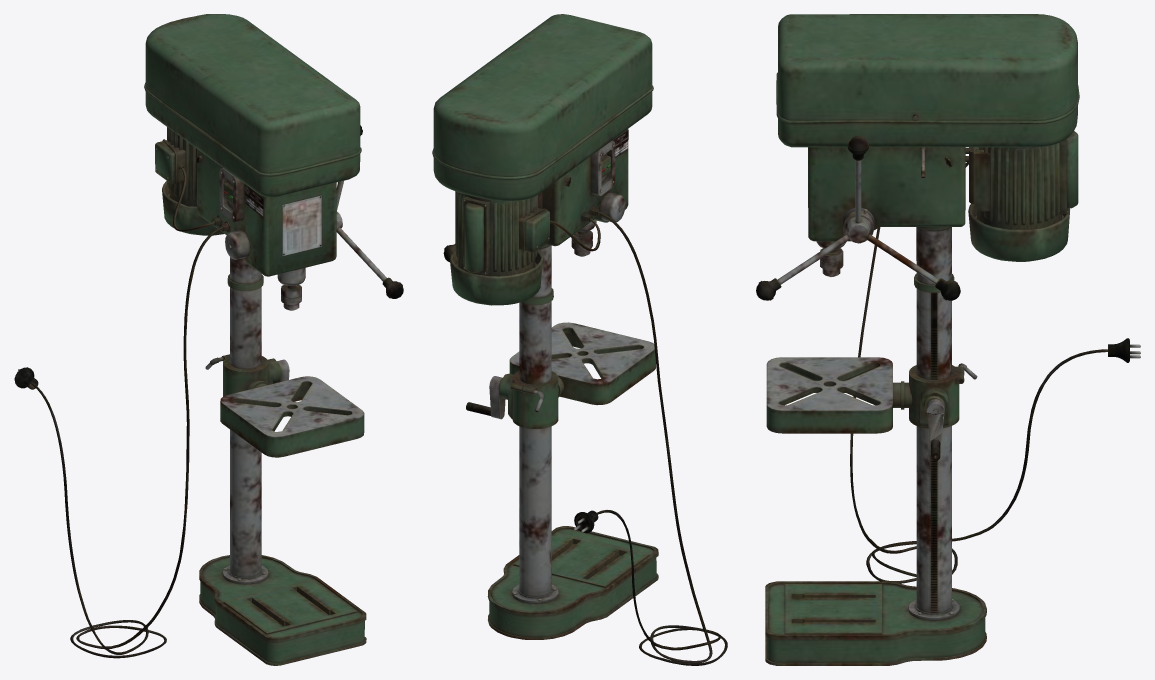
The model's file is old-drill-press.glb.
3 views of the same model, side by side, from view 1: azimuth 30°, elevation 25°; view 2: azimuth 150°, elevation 25°; view 3: azimuth 270°, elevation 25° (orthographic). The views are drawn at different scales.
Parts seen in each view (by area): view 1: old_drill_press, old_drill_press_cable; view 2: old_drill_press, old_drill_press_cable; view 3: old_drill_press, old_drill_press_cable.
Boxes of the visible parts, left/top/right/bottom form: old_drill_press: left=144, top=14, right=403, bottom=665; old_drill_press_cable: left=14, top=167, right=222, bottom=658; old_drill_press: left=432, top=14, right=658, bottom=639; old_drill_press_cable: left=550, top=211, right=727, bottom=665; old_drill_press: left=756, top=14, right=1079, bottom=665; old_drill_press_cable: left=850, top=162, right=1140, bottom=583.
Bounding box in the file's own units: 0.5272 × 1.05 × 0.6093.
1 material, 1 textured.
